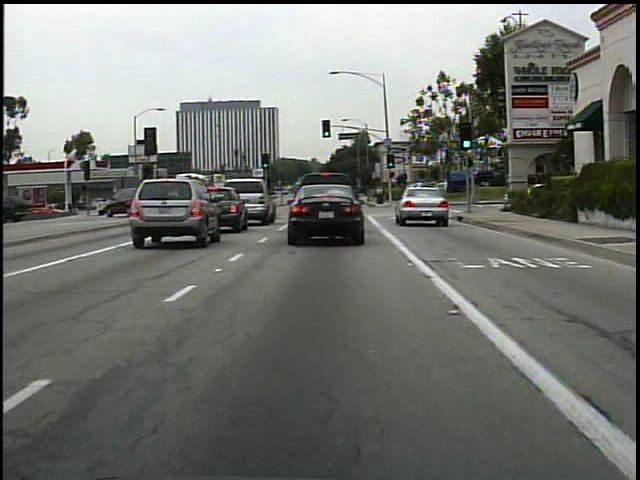person: (374, 182, 388, 207)
